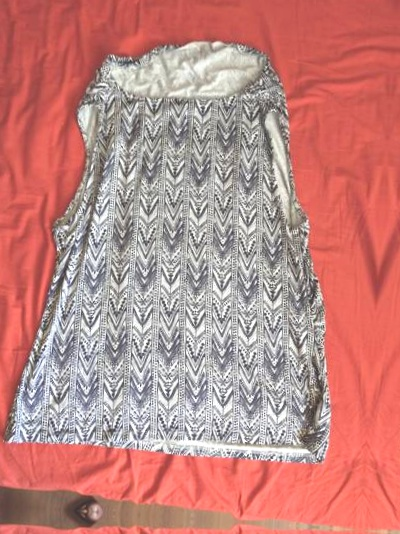Dress: (0, 8, 363, 488), (396, 36, 400, 517)
